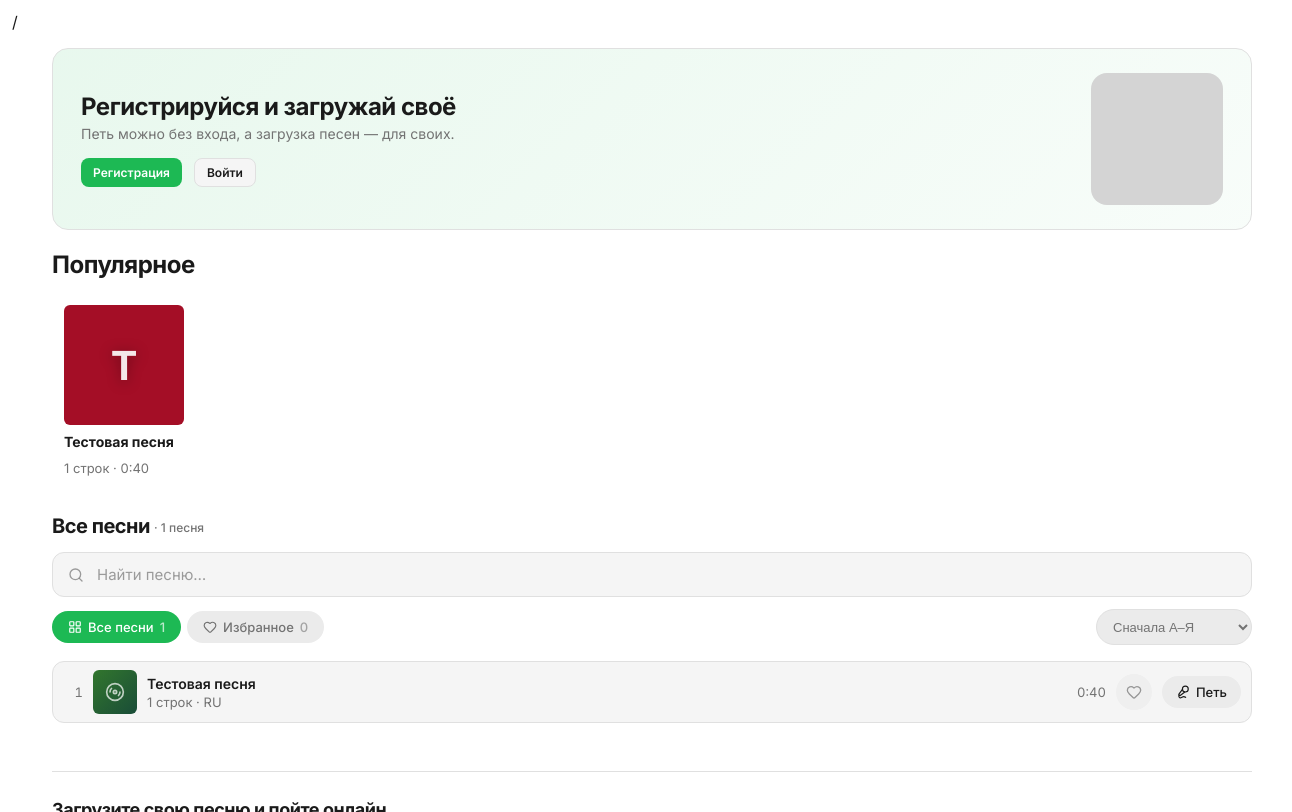
Test: Catalog: фаза 1 — полка, сортировка, язык, вид › Спеть из панели вне караоке ведёт на /karaoke
Check: the button "Петь" is shown, box [1162,676,1241,708]
Click the button with aria-label "Превью: Тестовая песня": {"x": 124, "y": 390} [52,293,196,488]
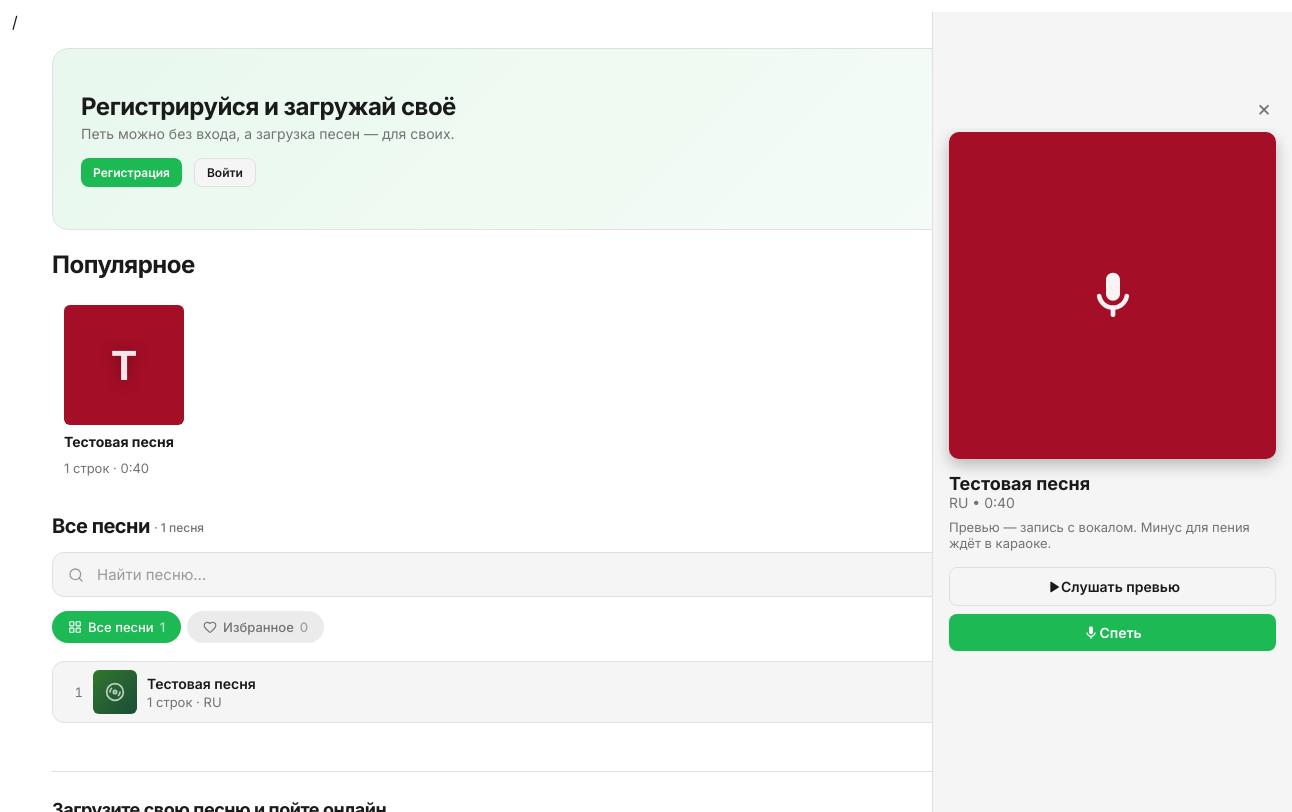
Check: the element with test id "karaoke-preview-panel" is shown, box [932,12,1291,811]
Click the button "Спеть": {"x": 1112, "y": 632} [949,614,1276,651]
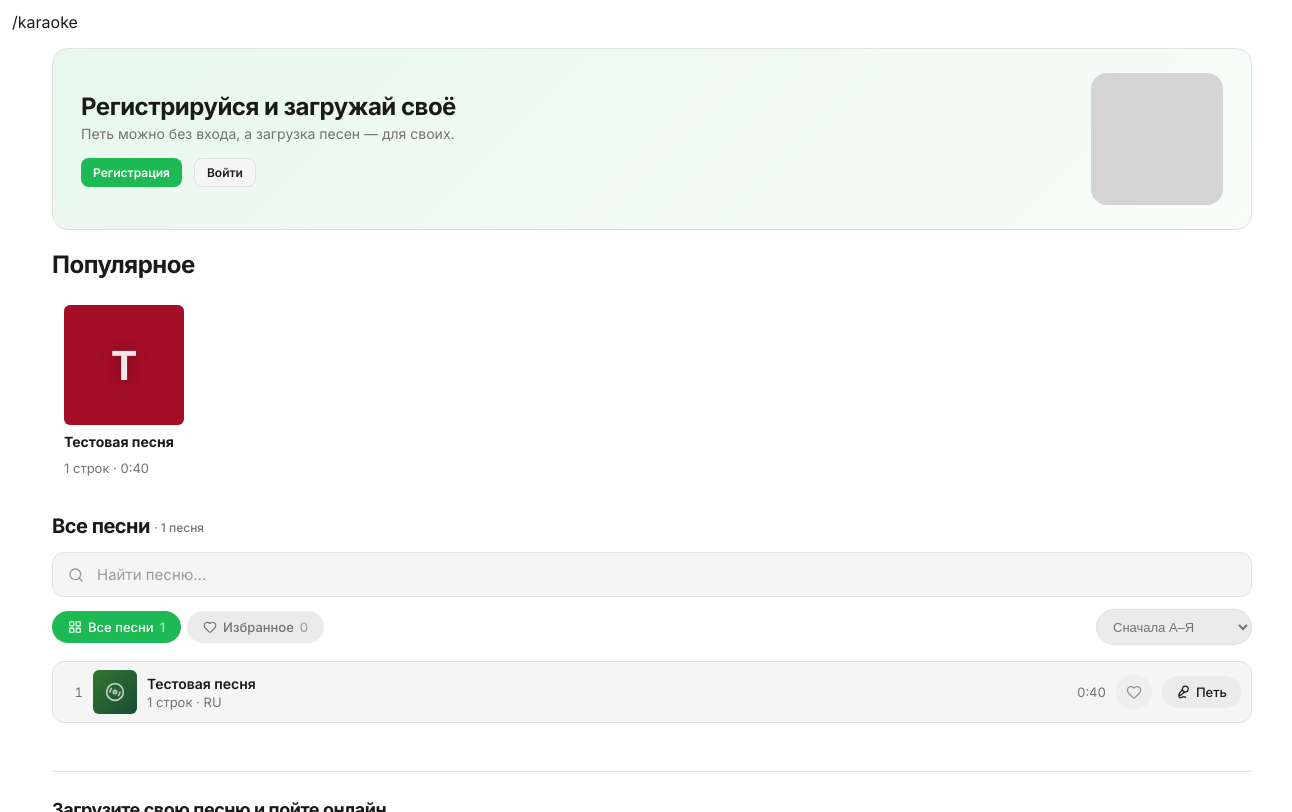
Check: the text with test id "location" reads "/karaoke", box [12,12,78,32]
Check: the element with test id "karaoke-preview-panel" is gone
